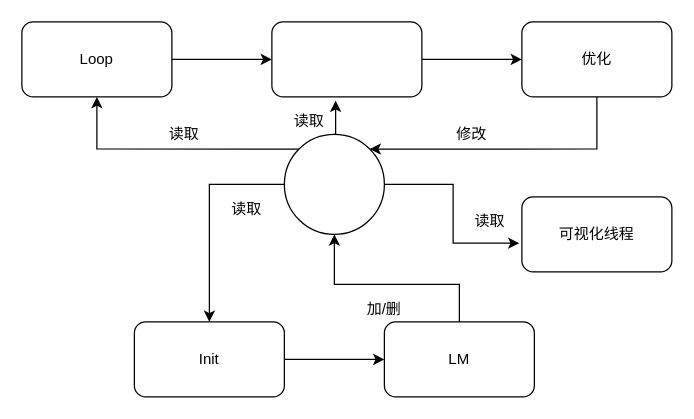
Image size: 694x419. Some labels were removed from this diagram. Here are the shapes that lost their labels. From the top down, the centre of each, then its label:
At point (346, 59): "构造".
At point (333, 183): "MapManager".
